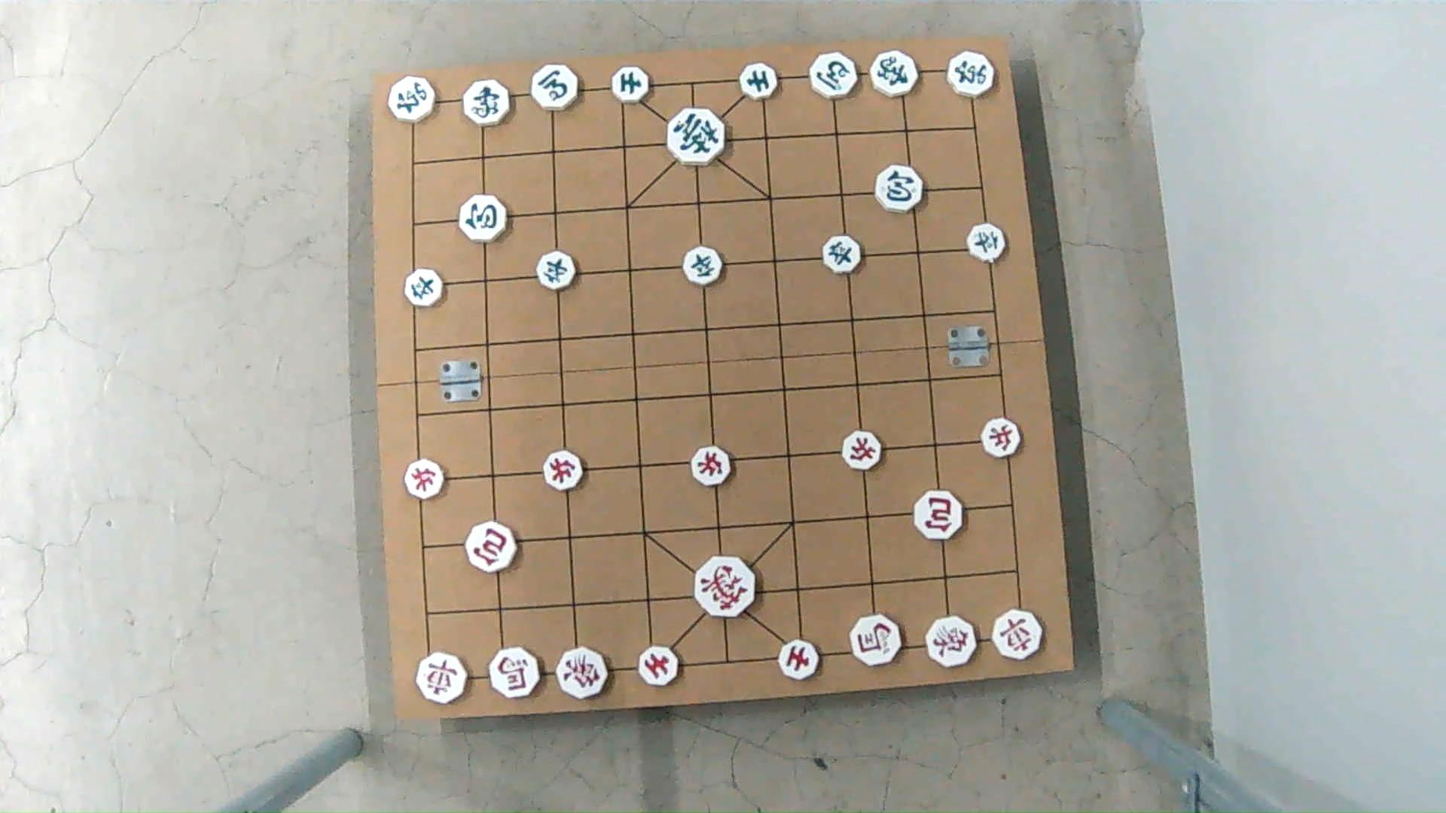cha_green: (947, 52, 997, 96), (389, 76, 435, 123)
cha_red: (990, 612, 1045, 659), (416, 655, 470, 702)
jol_green: (533, 252, 577, 288), (401, 269, 446, 303), (820, 240, 862, 275), (683, 250, 725, 285), (966, 227, 1008, 260)
jol_red: (401, 458, 446, 499), (980, 421, 1024, 457), (541, 452, 585, 488), (691, 449, 736, 484), (842, 434, 886, 469)
ma_green: (808, 56, 860, 99), (532, 67, 581, 110)
ma_red: (488, 650, 543, 698), (850, 619, 905, 666)
po_green: (874, 168, 924, 212), (457, 198, 507, 241)
po_red: (466, 525, 521, 571), (914, 492, 968, 538)
sa_green: (738, 66, 778, 100), (613, 69, 651, 102)
sa_red: (636, 646, 680, 684), (779, 643, 823, 681)
sang_green: (865, 53, 918, 96), (462, 82, 513, 125)
sang_red: (557, 647, 611, 700), (926, 617, 982, 665)
wang_green: (667, 111, 727, 163)
wang_red: (694, 561, 756, 617)
